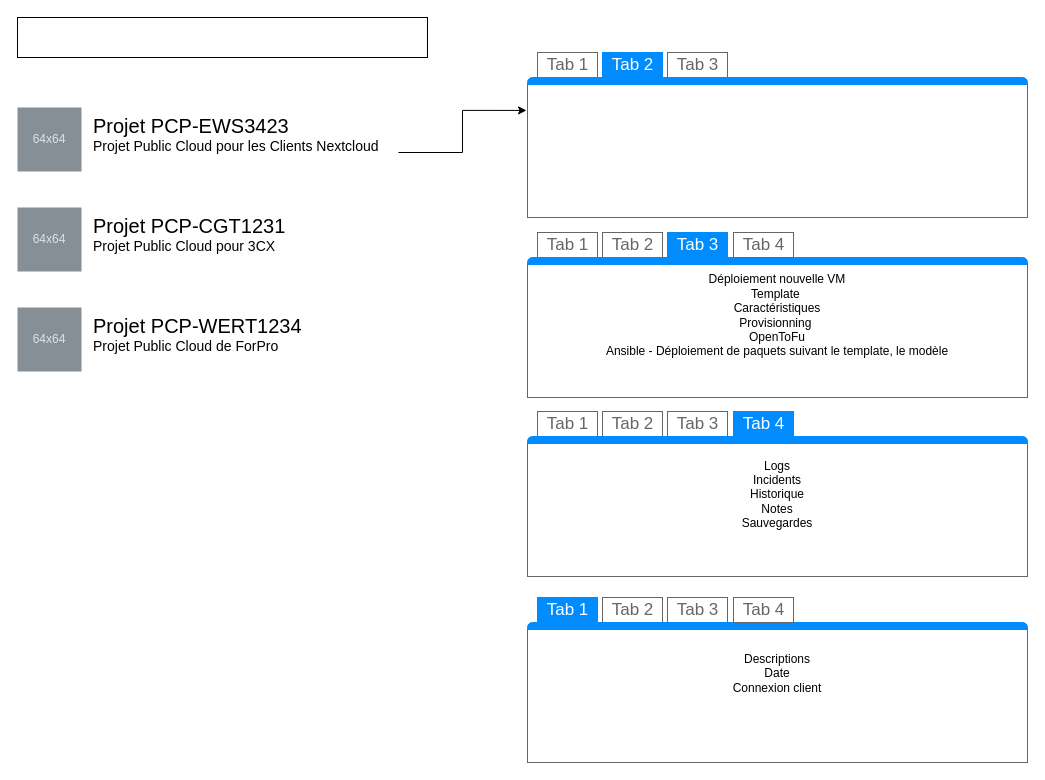
Some shapes in this 1045 by 780 pixel diagram are drawn without their labels. The centre of each missing label's shape, as x and y in pixels:
Liste des VMS Toplogy réseaux Caractéristiques Ressources Volumes Coûts: the point at 777,135
Public Cloud: the point at 222,37
